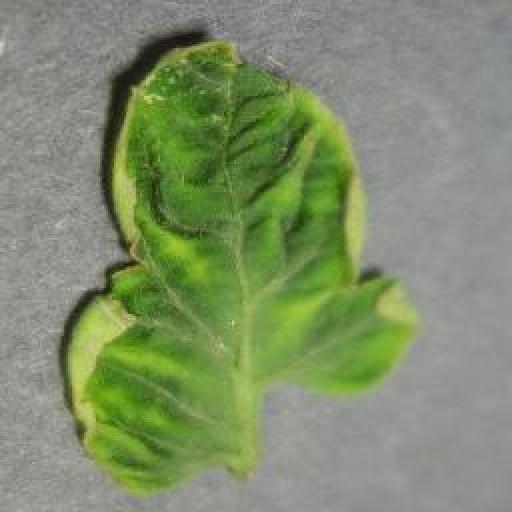Yellow Leaf Curl Virus: (65, 36, 420, 493)
